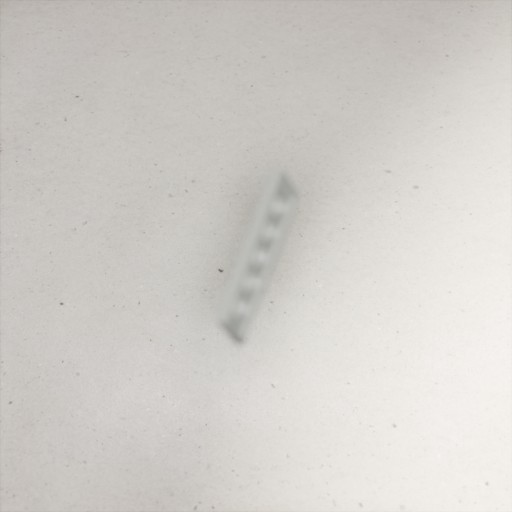lego: (214, 167, 301, 346)
